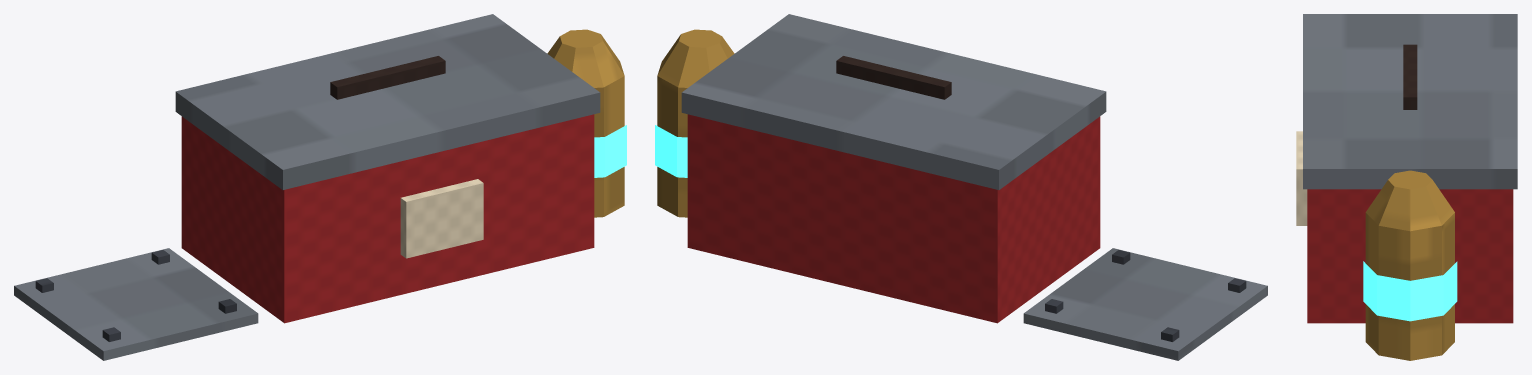
The model's file is SM_Prop_RepairKit_HQ.glb.
3 views of the same model, side by side, from view 1: azimuth 30°, elevation 25°; view 2: azimuth 150°, elevation 25°; view 3: azimuth 270°, elevation 25° (orthographic).
Parts seen in each view (by area): view 1: SM_Prop_RepairKit_HQ; view 2: SM_Prop_RepairKit_HQ; view 3: SM_Prop_RepairKit_HQ.
Part boxes in pixels (bbox=[...]): SM_Prop_RepairKit_HQ: bbox=[14, 14, 626, 360]; SM_Prop_RepairKit_HQ: bbox=[655, 14, 1267, 360]; SM_Prop_RepairKit_HQ: bbox=[1296, 14, 1517, 360].
Size of the model in its own units: 1.46 by 0.4356 by 0.495.
Materials: 1 (1 with a texture image).
